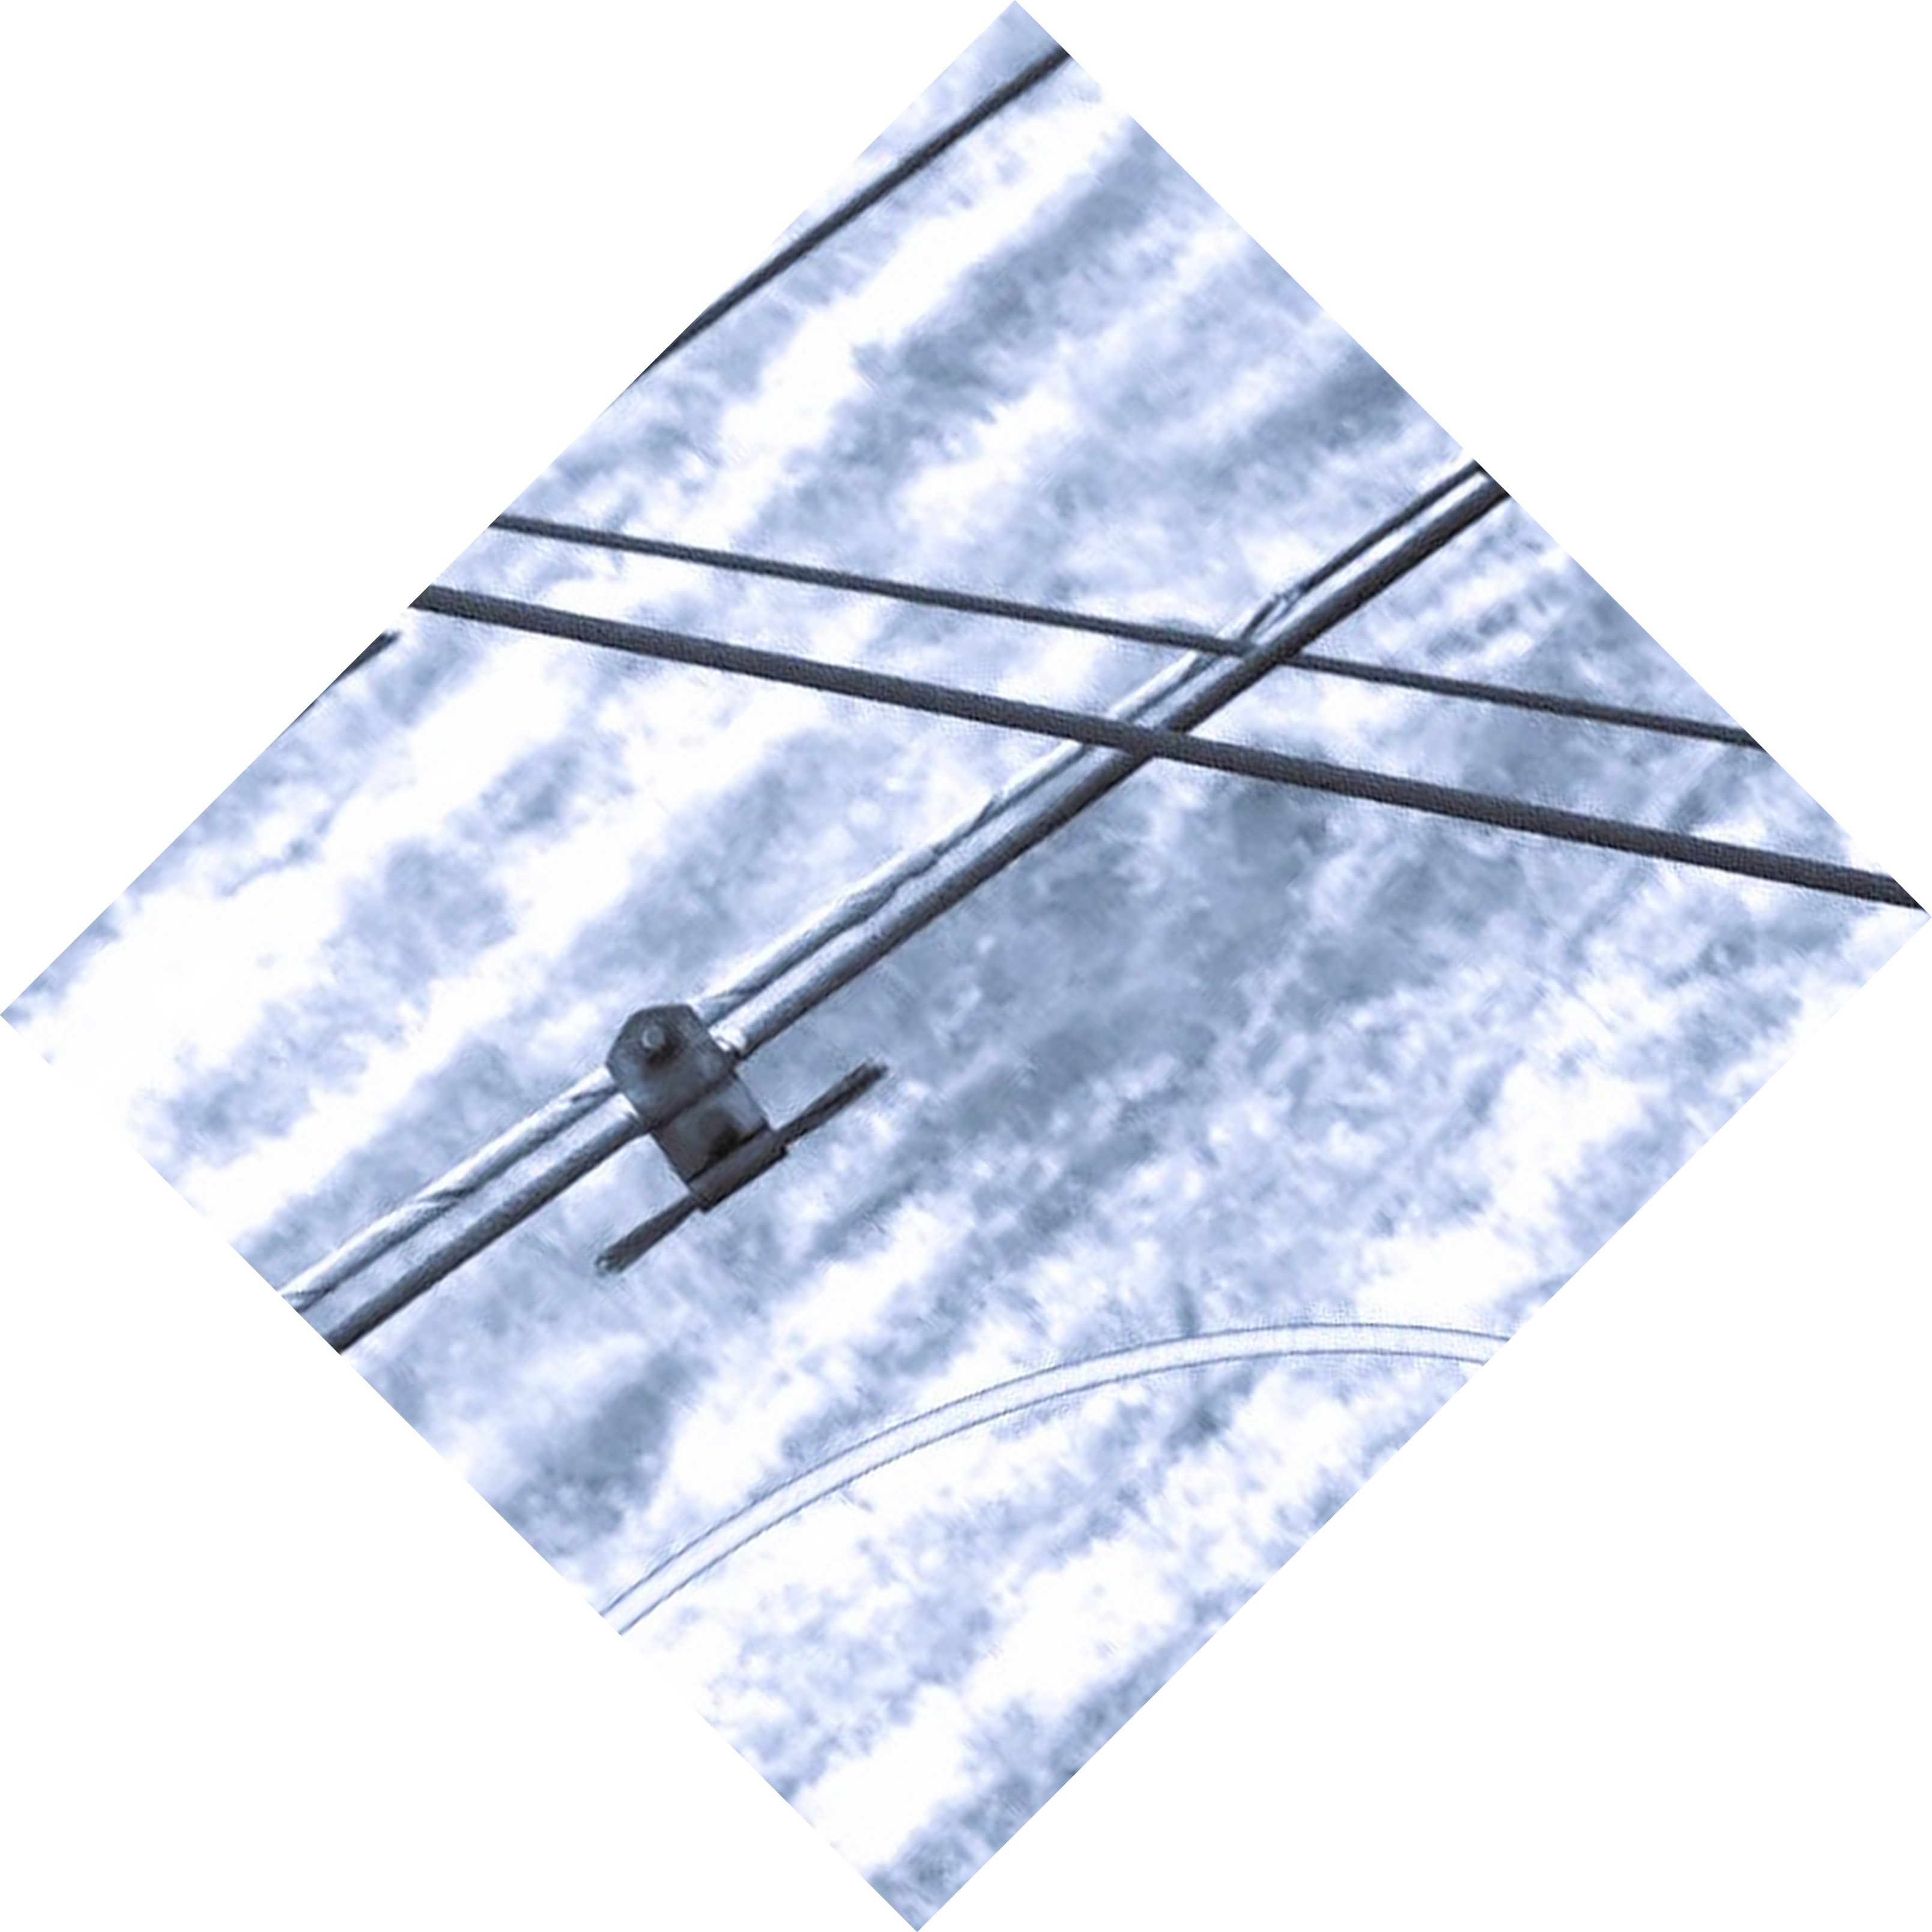Damage of shockproof hammer: (556, 945, 924, 1306)
